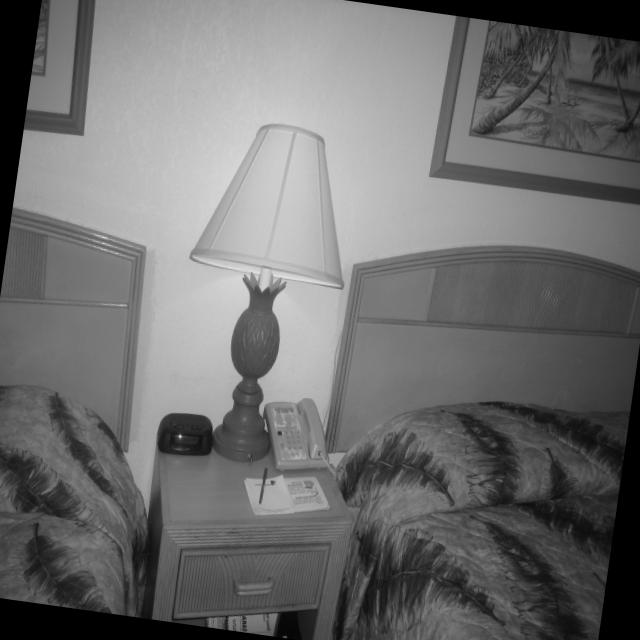alarm: (154, 408, 215, 463)
bed frame: (327, 248, 640, 640), (0, 209, 145, 615)
calendar: (239, 469, 334, 517)
lamp crop: (185, 108, 349, 466)
night stand cabinet: (140, 429, 355, 640)
painting: (429, 16, 640, 204), (24, 0, 95, 137)
pen holder: (255, 459, 272, 505)
phone charger: (266, 391, 339, 477)
